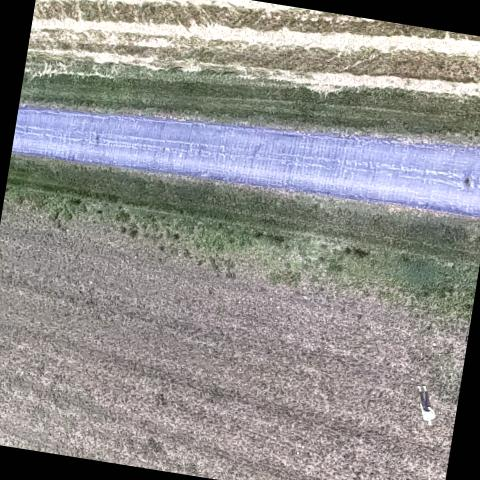person: (408, 382, 442, 428)
